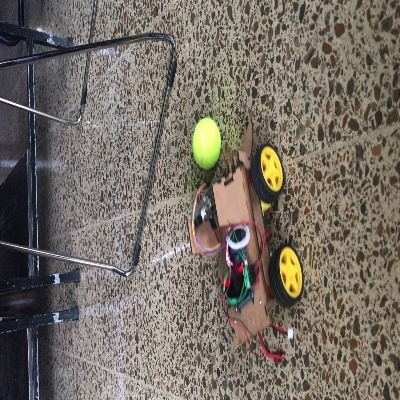Ball: (192, 119, 222, 168)
Robot: (189, 119, 304, 346)
